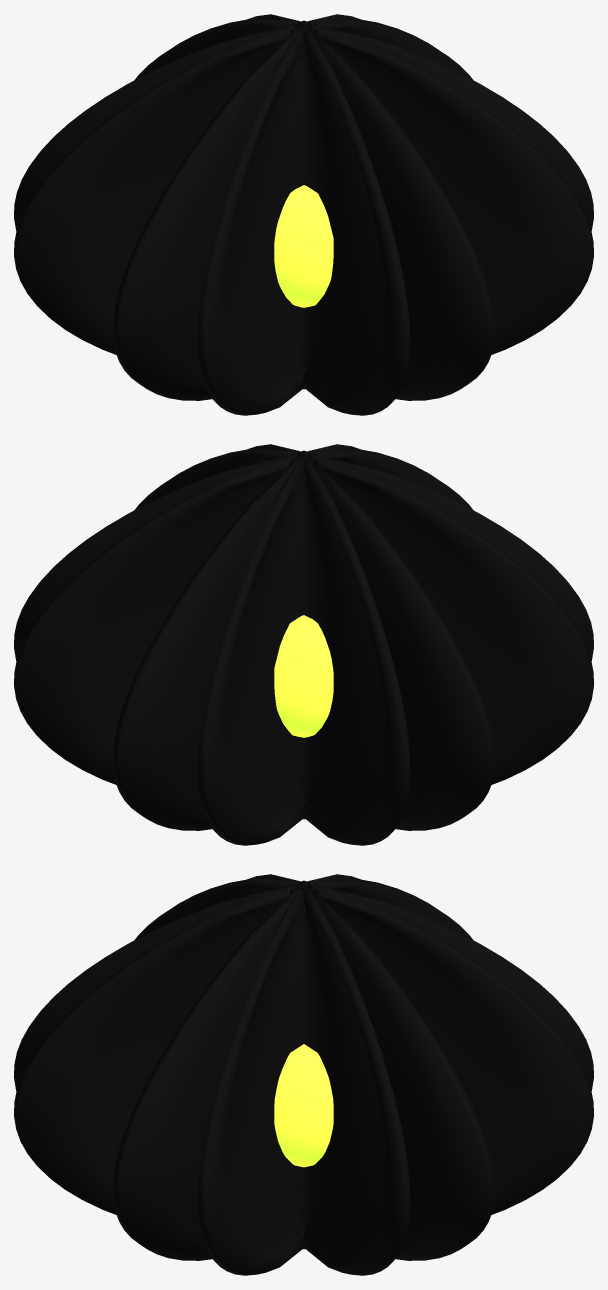
Rendered from monaka_tsubomi.glb.
3 renders of one model, top to bottom at view 1: azimuth 30°, elevation 25°; view 2: azimuth 150°, elevation 25°; view 3: azimuth 270°, elevation 25°, orthographic.
Visible parts, largest first — view 1: petal_3, petal_5, petal_4, petal_0, petal_2, core; view 2: petal_1, petal_3, petal_2, petal_0, petal_4, core; view 3: petal_1, petal_5, petal_0, petal_2, petal_4, core.
Boxes of the visible parts, x1,y1,x2,y2 form: petal_3: (14, 25, 299, 400); petal_5: (308, 25, 593, 400); petal_4: (197, 29, 410, 415); petal_0: (307, 18, 593, 230); petal_2: (14, 18, 300, 230); core: (274, 185, 333, 307); petal_1: (14, 455, 299, 830); petal_3: (308, 455, 593, 830); petal_2: (197, 459, 410, 845); petal_0: (14, 448, 300, 660); petal_4: (307, 448, 593, 660); core: (274, 615, 333, 737); petal_1: (308, 885, 593, 1260); petal_5: (14, 885, 299, 1260); petal_0: (197, 889, 410, 1275); petal_2: (307, 878, 593, 1090); petal_4: (14, 878, 300, 1090); core: (274, 1044, 333, 1167).
Bounding box in the file's own units: 1.09 × 0.7485 × 1.15.
